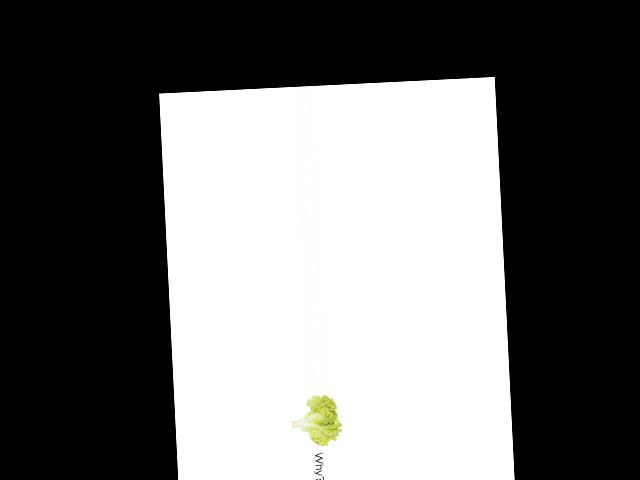lettuce: (289, 392, 343, 452)
